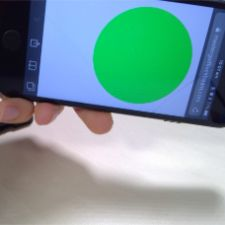focus: (89, 1, 198, 111)
